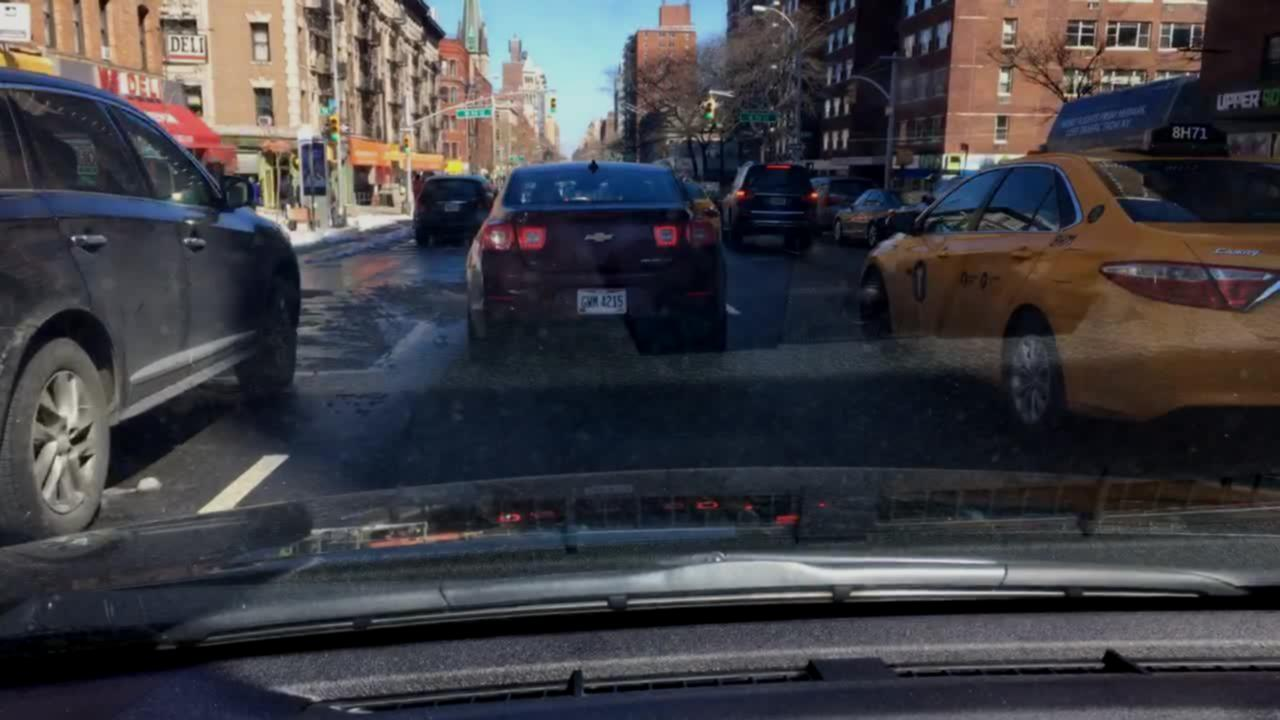chevrolet: (583, 229, 618, 250)
